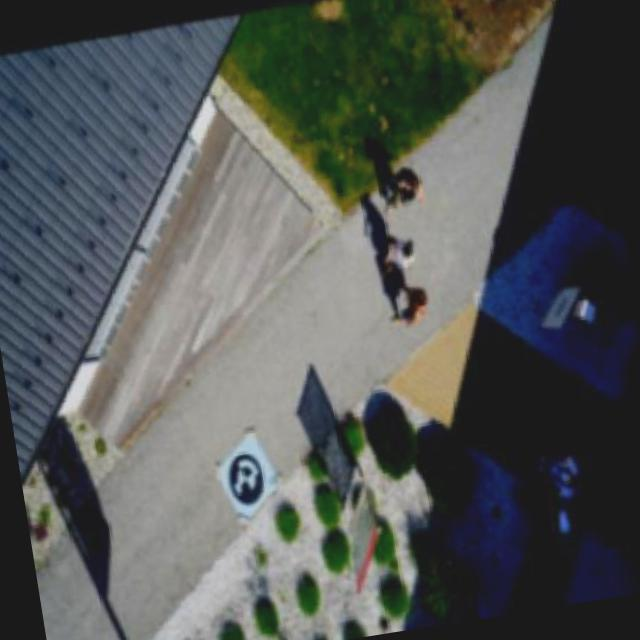Person: (507, 426, 603, 510), (505, 466, 584, 545), (372, 159, 438, 219), (384, 280, 450, 332), (370, 233, 430, 286)
